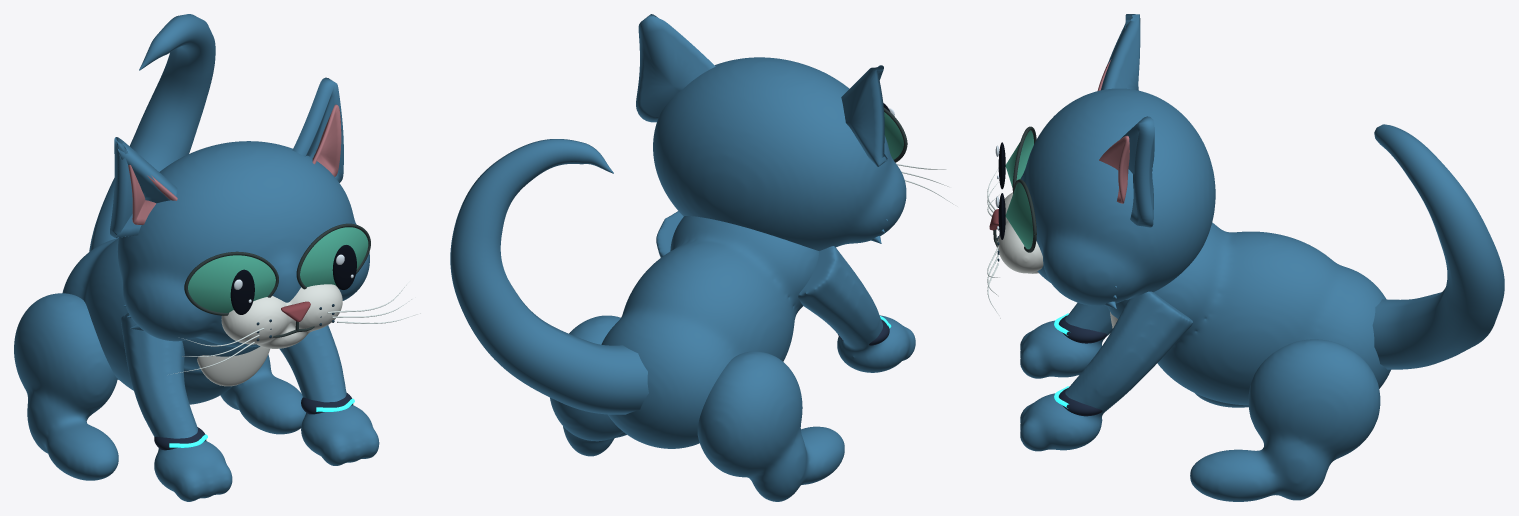
Rendered from cat-rider-v3.glb.
3 views of the same model, side by side, from view 1: azimuth 30°, elevation 25°; view 2: azimuth 150°, elevation 25°; view 3: azimuth 270°, elevation 25° (orthographic).
Parts seen in each view (by area): view 1: Feline head sculpt, Bent rear leg, Foreleg and soft paw, Sweeping tail, Cat torso sculpt, Foreleg and soft paw.001, Ivory muzzle sculpt, Bent rear leg.001, Almond jade eye, Outer ear, Almond jade eye.001, Outer ear.001 (+9 smaller); view 2: Feline head sculpt, Cat torso sculpt, Sweeping tail, Bent rear leg, Foreleg and soft paw, Outer ear.001, Bent rear leg.001, Outer ear, Foreleg and soft paw.001, Almond jade eye; view 3: Feline head sculpt, Cat torso sculpt, Bent rear leg.001, Sweeping tail, Foreleg and soft paw.001, Foreleg and soft paw, Outer ear.001, Outer ear, Ivory muzzle sculpt, Almond jade eye.001, Inner pinna.001, Almond jade eye (+1 smaller).
Part boxes in pixels (<box>): Feline head sculpt: <box>117,141,369,347</box>; Bent rear leg: <box>14,293,118,480</box>; Foreleg and soft paw: <box>121,313,232,501</box>; Sweeping tail: <box>89,14,215,251</box>; Cat torso sculpt: <box>62,238,259,404</box>; Foreleg and soft paw.001: <box>279,325,379,465</box>; Ivory muzzle sculpt: <box>221,284,342,348</box>; Bent rear leg.001: <box>220,354,305,434</box>; Almond jade eye: <box>188,255,275,312</box>; Outer ear: <box>110,137,177,238</box>; Almond jade eye.001: <box>300,227,368,286</box>; Outer ear.001: <box>292,77,343,182</box>; Feline head sculpt: <box>653,57,906,250</box>; Cat torso sculpt: <box>601,216,818,448</box>; Sweeping tail: <box>450,139,648,414</box>; Bent rear leg: <box>697,351,844,501</box>; Foreleg and soft paw: <box>798,246,915,372</box>; Outer ear.001: <box>636,14,715,122</box>; Bent rear leg.001: <box>550,315,626,456</box>; Outer ear: <box>841,65,887,166</box>; Foreleg and soft paw.001: <box>656,211,683,257</box>; Almond jade eye: <box>884,112,903,159</box>; Feline head sculpt: <box>1020,88,1215,305</box>; Cat torso sculpt: <box>1107,222,1390,405</box>; Bent rear leg.001: <box>1190,339,1380,501</box>; Sweeping tail: <box>1372,124,1504,369</box>; Foreleg and soft paw.001: <box>1020,291,1193,451</box>; Foreleg and soft paw: <box>1020,302,1112,378</box>; Outer ear.001: <box>1121,116,1154,227</box>; Outer ear: <box>1101,14,1140,90</box>; Ivory muzzle sculpt: <box>997,192,1043,273</box>; Almond jade eye.001: <box>1005,182,1034,249</box>; Inner pinna.001: <box>1099,135,1129,203</box>; Almond jade eye: <box>1005,130,1033,187</box>.
Size of the model in its own units: 1.26 by 1.68 by 2.04.
